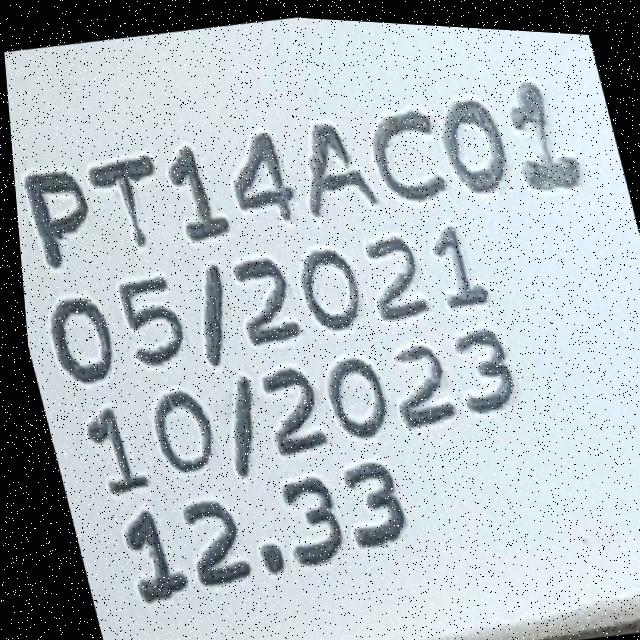sentence: (20, 72, 576, 268), (78, 323, 507, 490), (44, 219, 482, 382), (108, 459, 397, 600), (21, 172, 84, 266)
